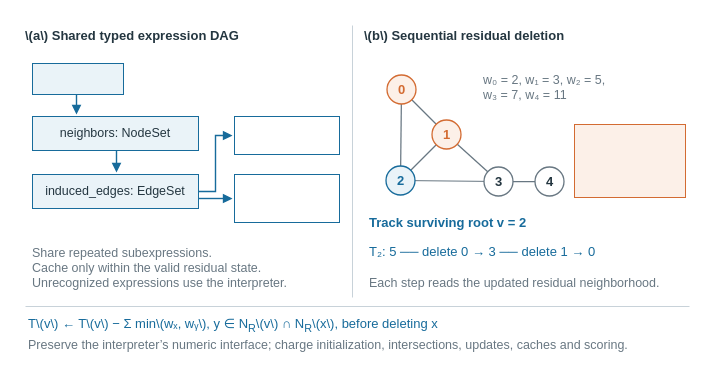
The diagram is 714 pixels wide and 371 high, and some of its shapes have lost their labels. The shapes that lost their labels are listed below. From the top down, each one's centre as x and y in pixels, then its label:
the point at 78,78: root: Node
the point at 287,135: count → Number
the point at 630,161: Snapshot batch subtracts {0,1} twice: T₂ = −2
the point at 287,198: min-weight sum → Number
